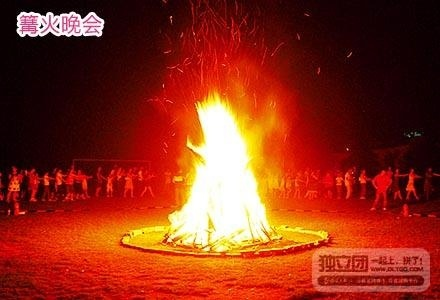fire: (175, 93, 272, 243)
